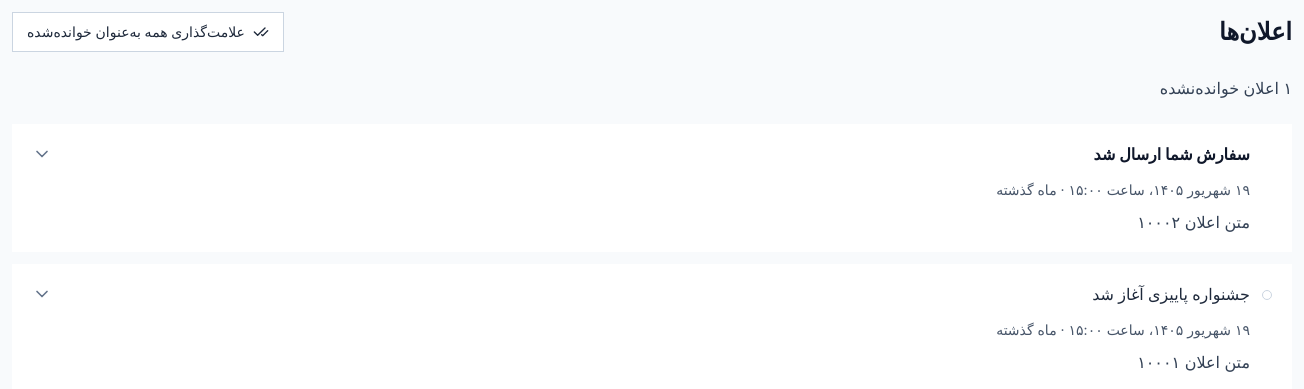
Test case: opening a notification › a 404 (deleted by the shop): the row goes at once, and the inbox is read again
Check: the text "۱ اعلان خوانده‌نشده" is shown, box left=1160, top=78, right=1292, bottom=98
Click the button "سفارش شما ارسال شد": (1172, 154) left=12, top=124, right=1292, bottom=180
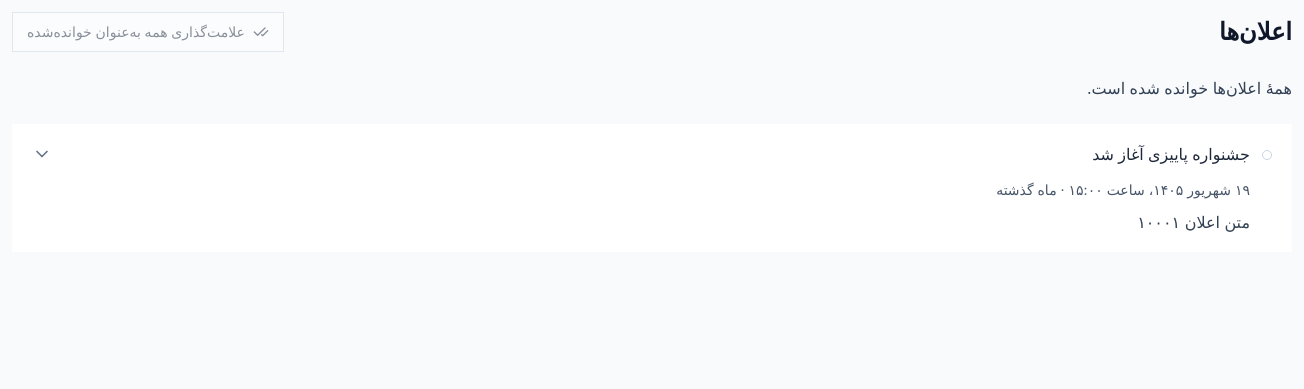
Check: the button "سفارش شما" is gone
